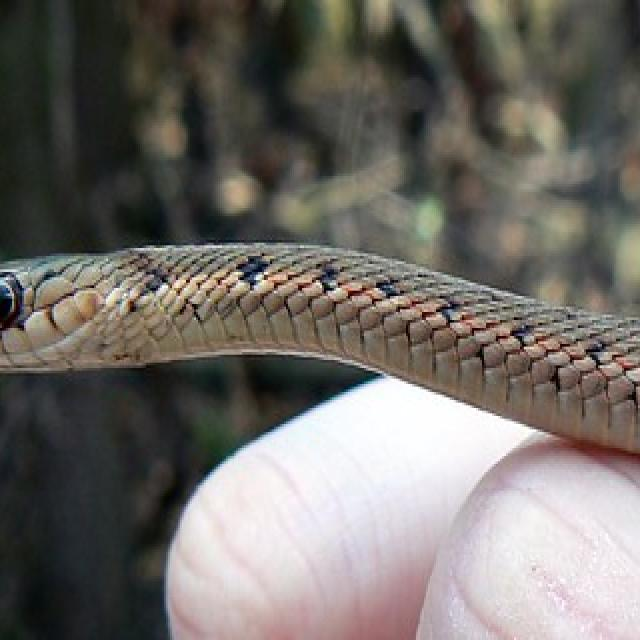Snake: (0, 235, 640, 565)
